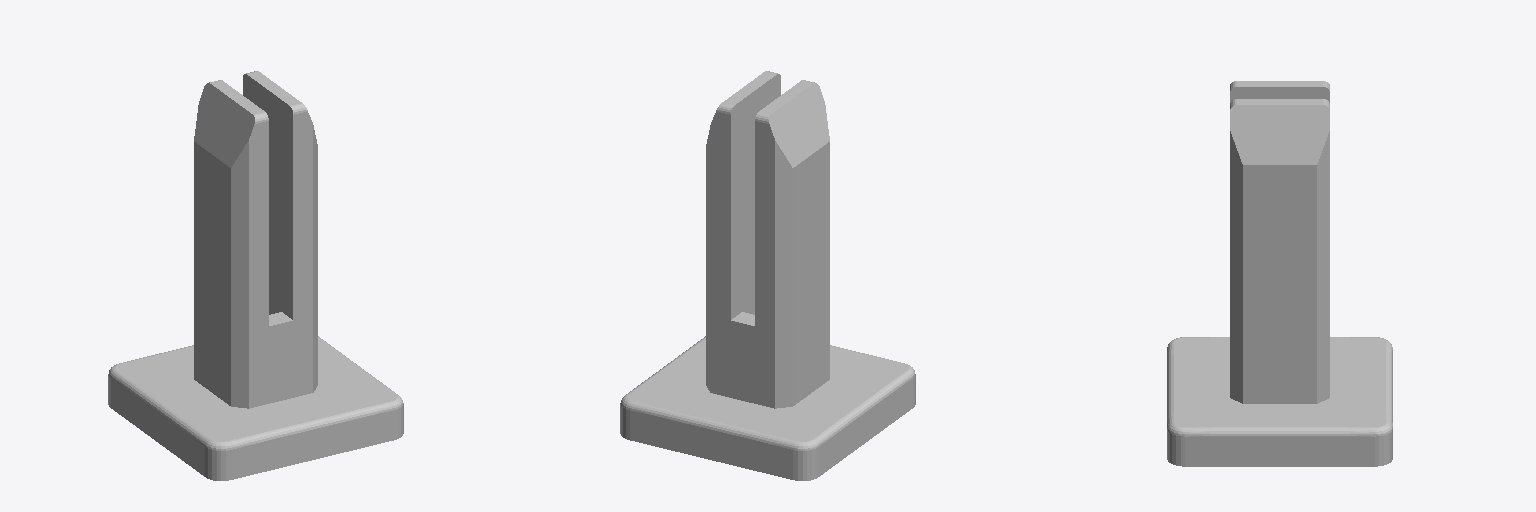
File: spartan-spigot-s1-mm.obj
3 views of the same model, side by side, from view 1: azimuth 30°, elevation 25°; view 2: azimuth 150°, elevation 25°; view 3: azimuth 270°, elevation 25° (orthographic).
Visible parts, largest first — view 1: Solid1; view 2: Solid1; view 3: Solid1.
Part boxes in pixels (x1,y1,x2,y2): Solid1: (108,71,403,480); Solid1: (620,71,915,480); Solid1: (1167,81,1392,466).
Size of the model in its own units: 102 by 162 by 102.